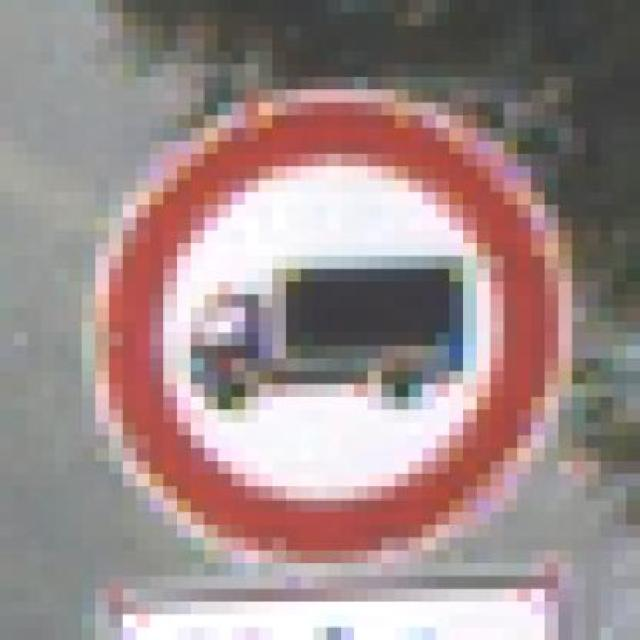Truck traffic is prohibited: (41, 64, 599, 576)
